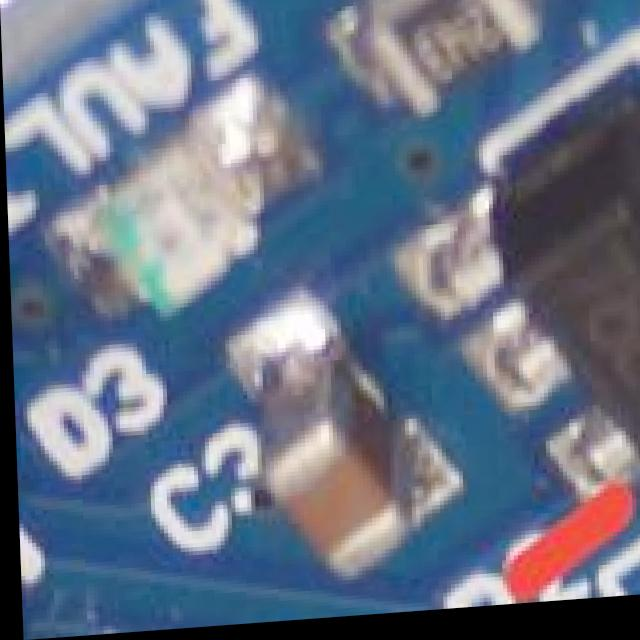capacitor: (220, 353, 441, 591)
resistor: (325, 0, 550, 120)
transistor: (373, 58, 640, 583)
